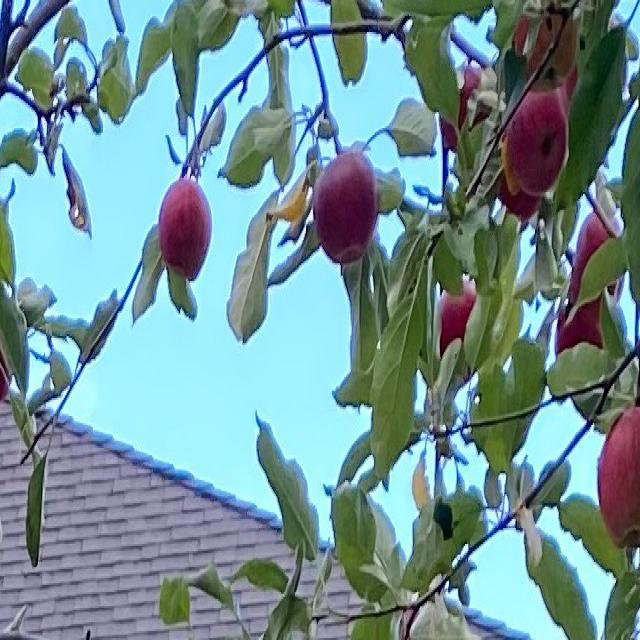Apples: (504, 89, 566, 188), (600, 409, 639, 549), (159, 181, 213, 279), (516, 2, 577, 87), (573, 210, 628, 300), (555, 292, 605, 378), (440, 66, 489, 153), (439, 279, 478, 349), (500, 180, 542, 218), (0, 343, 12, 402)
